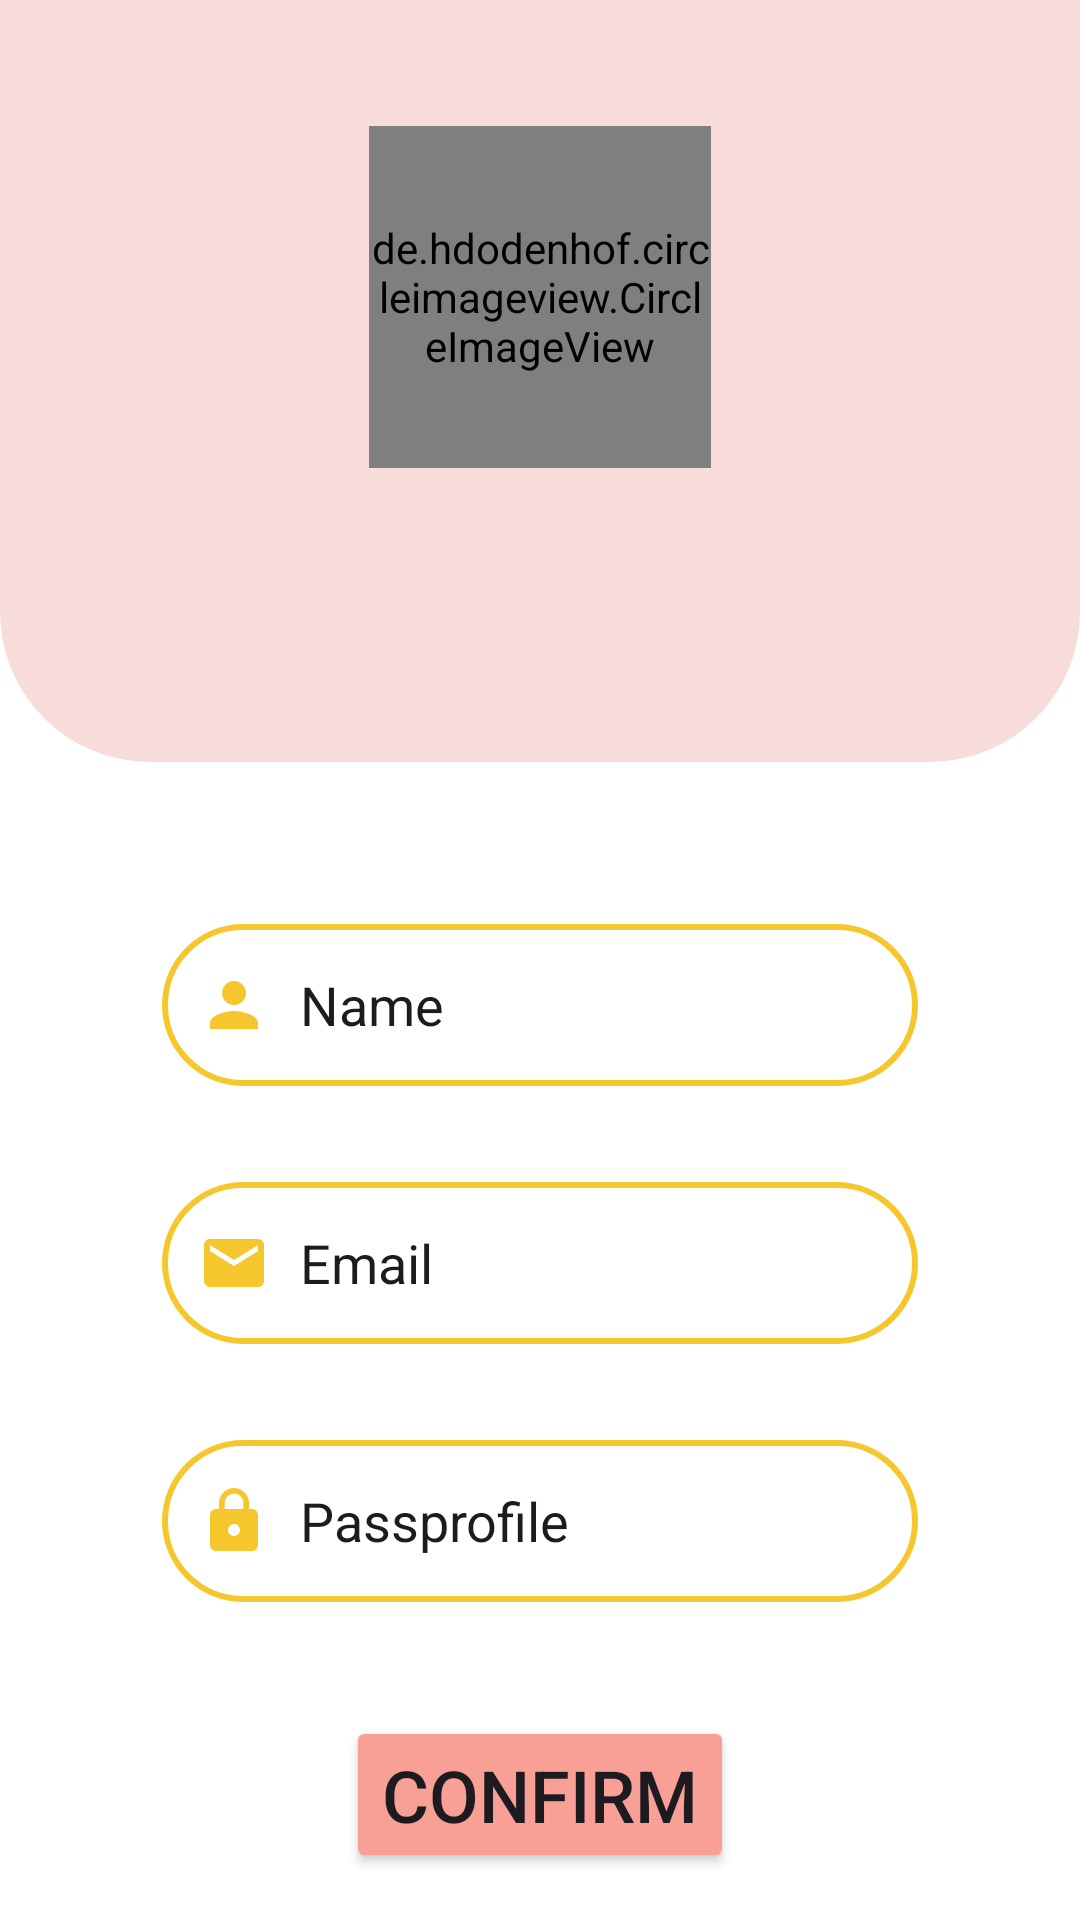

Icons on this 1080 x 1920 Android screen, each with the point to tap as (x=x, y=y):
lock profile: (x=234, y=1519)
person profile: (x=234, y=1005)
